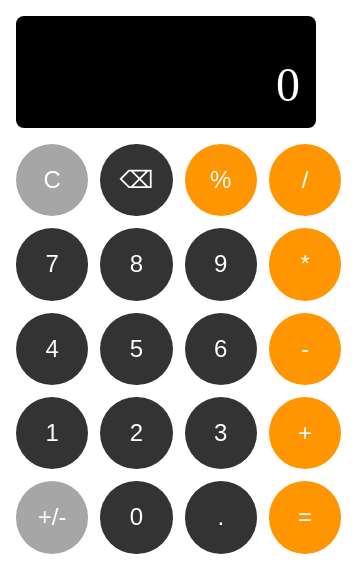
Test case: Calculadora › muestra decimal correctamente
Click the button "1".
click(52, 433)  # box [16,397,88,469]
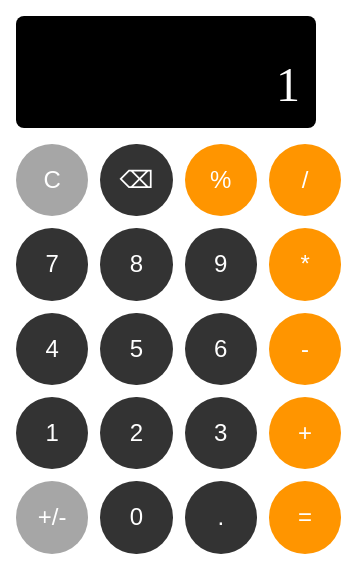
Click the button ".".
click(221, 517)  # box [185,481,257,554]
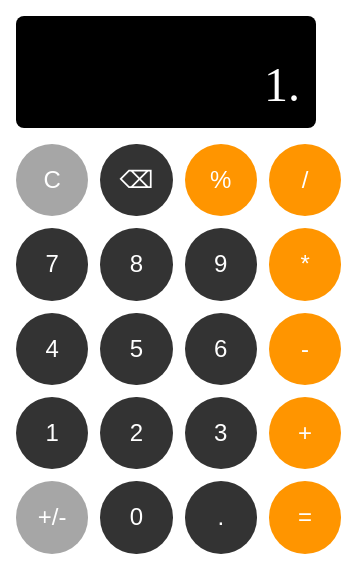
Click the button "5".
click(136, 349)  # box [100,313,173,385]
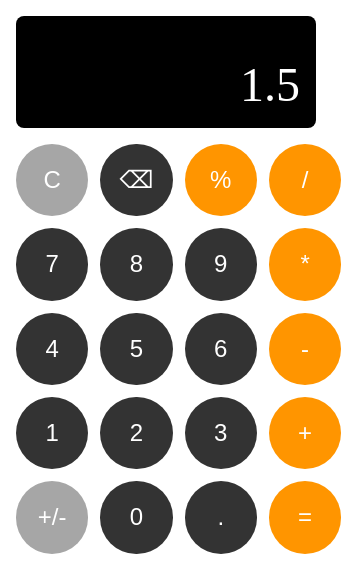
Result: the text with test id "display" reads "1.5" at [240,58,300,111]
